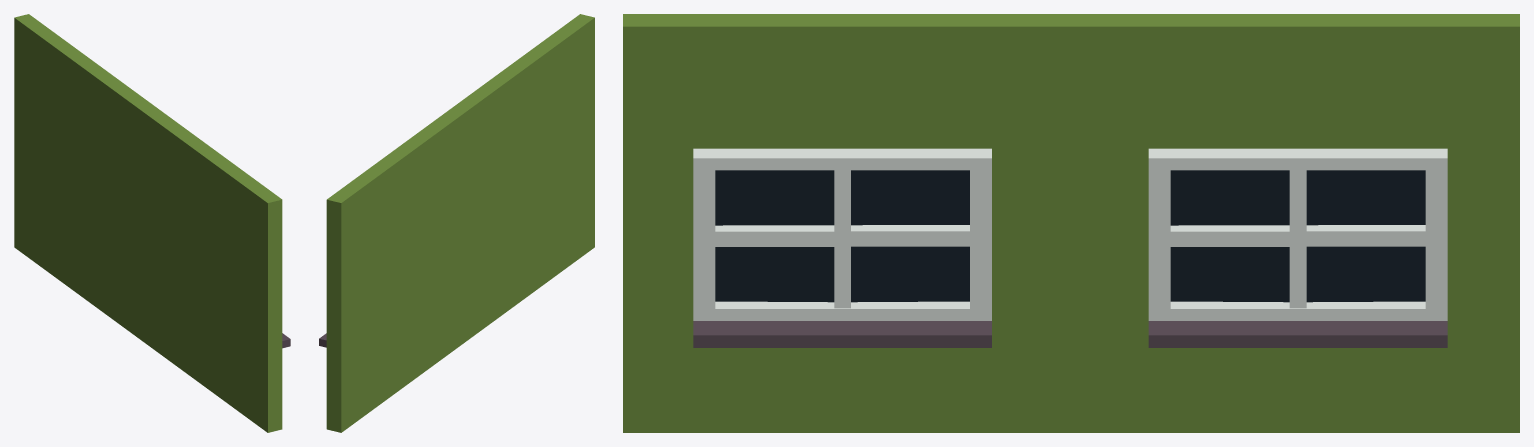
File: wall_windows.fbx
The picture shows the model from 3 angles, left to right: view 1: azimuth 30°, elevation 25°; view 2: azimuth 150°, elevation 25°; view 3: azimuth 270°, elevation 25°; orthographic projection. The views are drawn at different scales.
Parts seen in each view (by area): view 1: Cube.001; view 2: Cube.001; view 3: Cube.001, Cube.002, Cube.
Part boxes in pixels (<box>): Cube.001: <box>14,14,282,432</box>; Cube.001: <box>326,14,594,432</box>; Cube.001: <box>623,14,1519,432</box>; Cube.002: <box>1148,148,1447,347</box>; Cube: <box>693,148,991,347</box>.
Bounding box in the file's own units: 584 × 3000 × 6000.
